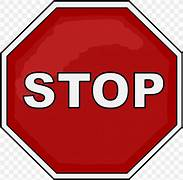stop: (1, 1, 183, 180)
